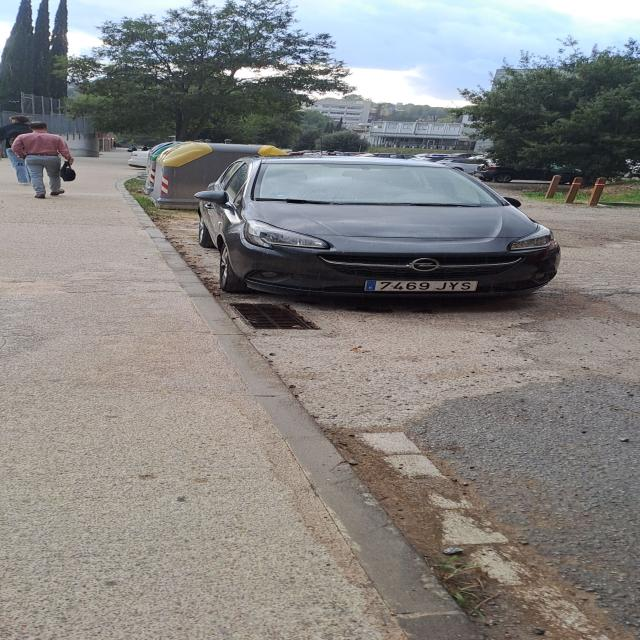license_plate-34Td: (364, 280, 477, 292)
